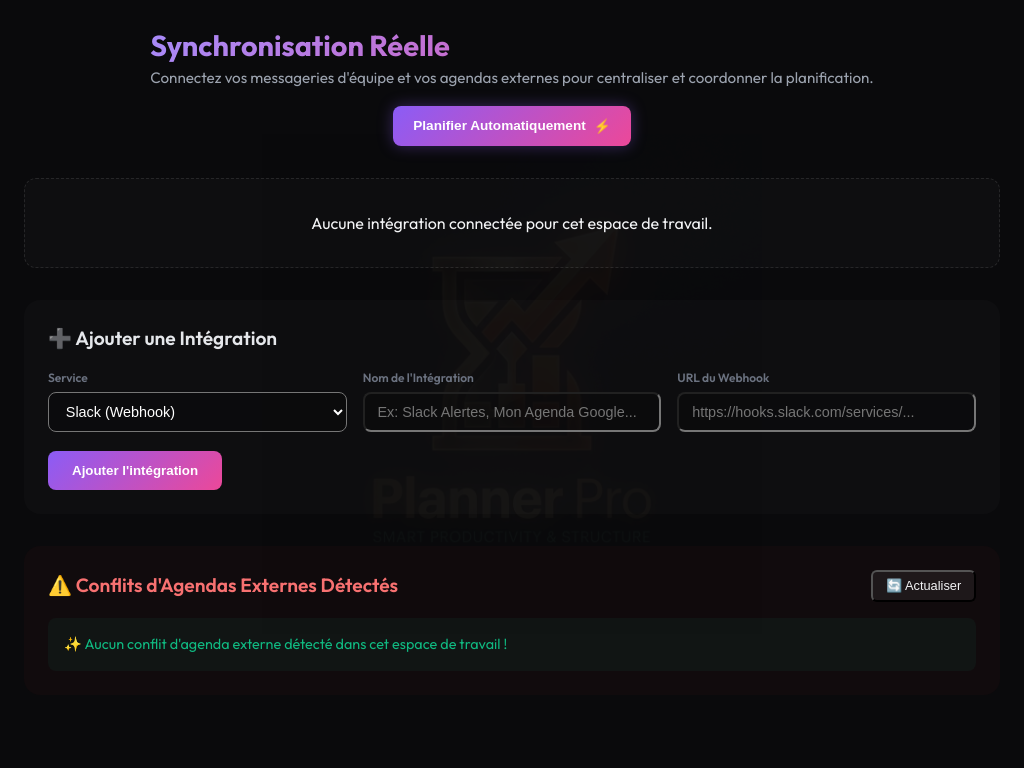
Test: IntegrationsPanel : état réel des intégrations (P1) › ne suggère plus le simulateur de calendrier dans le formulaire
Select "Google Calendar" in the dropdown showing "Slack (Webhook)" at (197, 412), box [48,392,347,432]
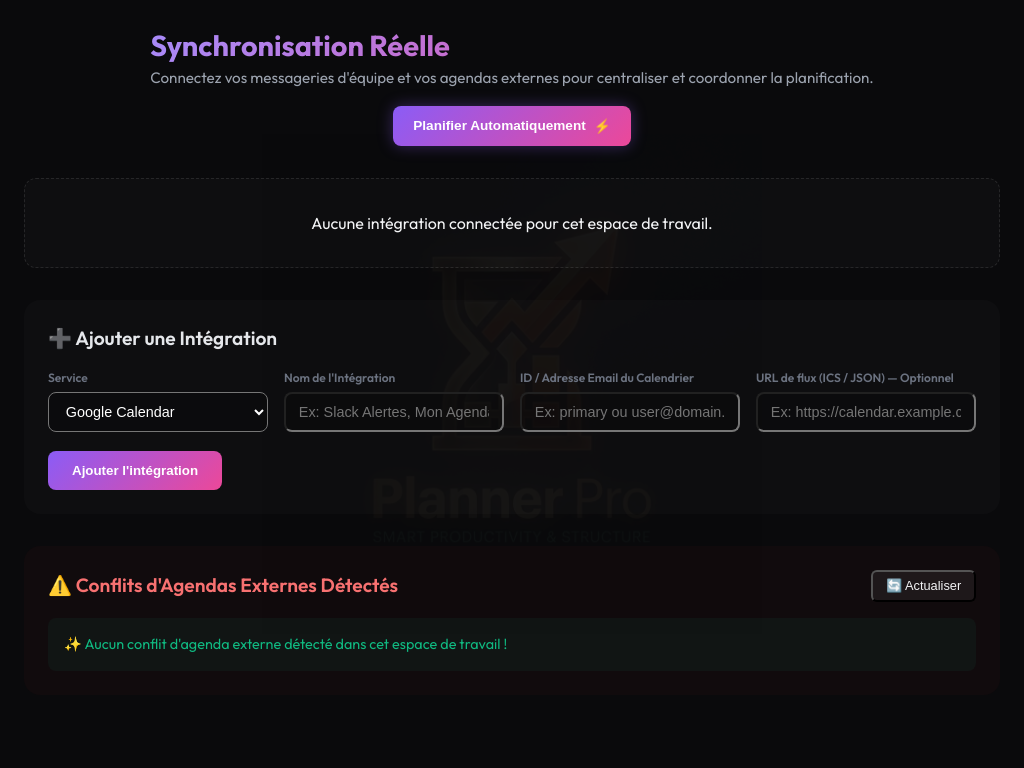
Check: the text "URL de flux (ICS / JSON) — Optionnel" is shown, box [756,369,976,387]
